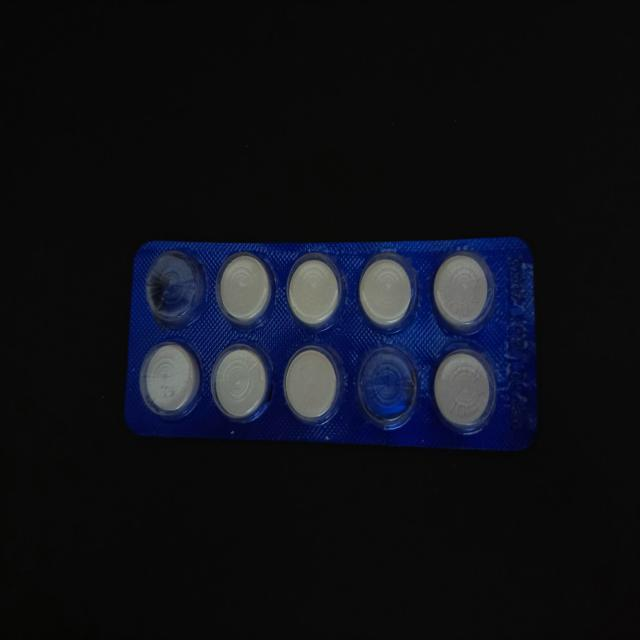defect: (353, 342, 422, 432), (143, 248, 213, 334)
